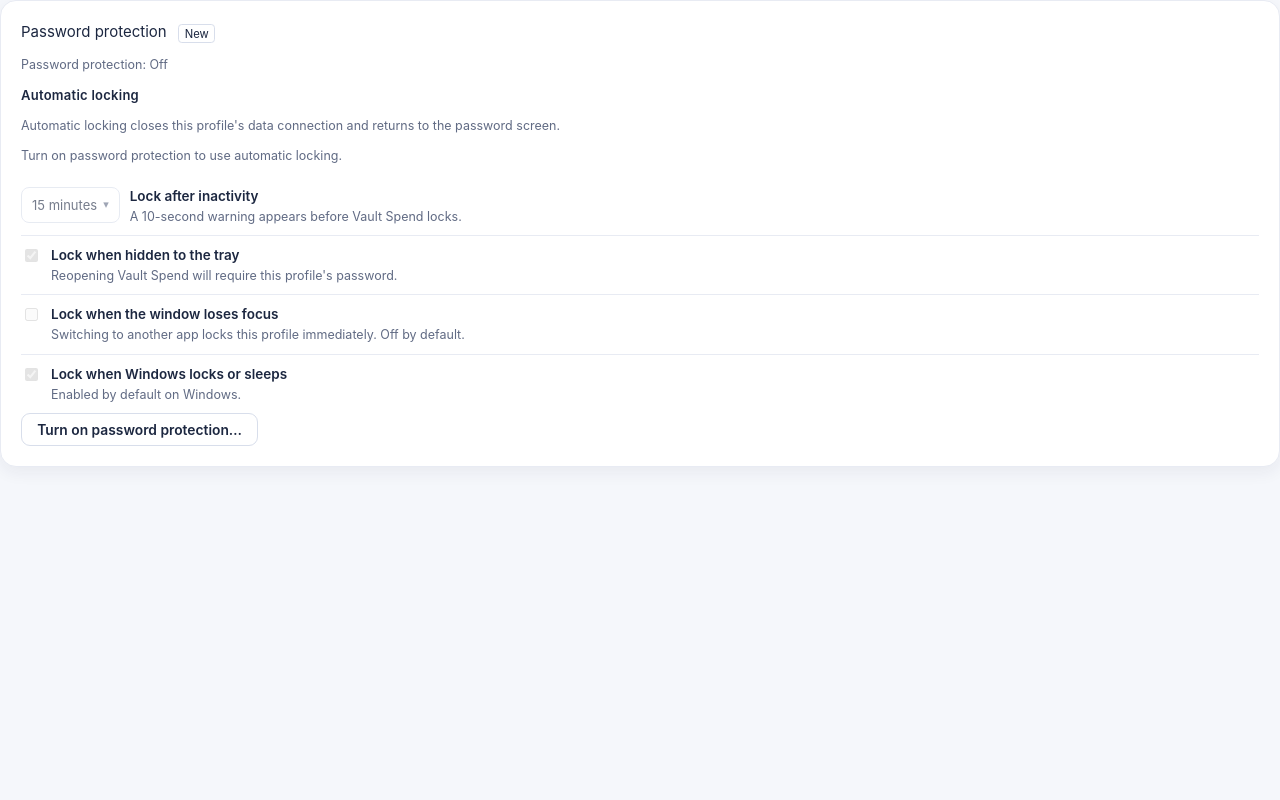
Test: ProfileProtectionSection › clicking the button opens the setup dialog for the active profile
The image size is (1280, 800).
What coordinates should you click on to do the following:
click the button "Turn on password protection…"
I would click on:
 (140, 430)
Its box is x1=21 y1=413 x2=258 y2=446.
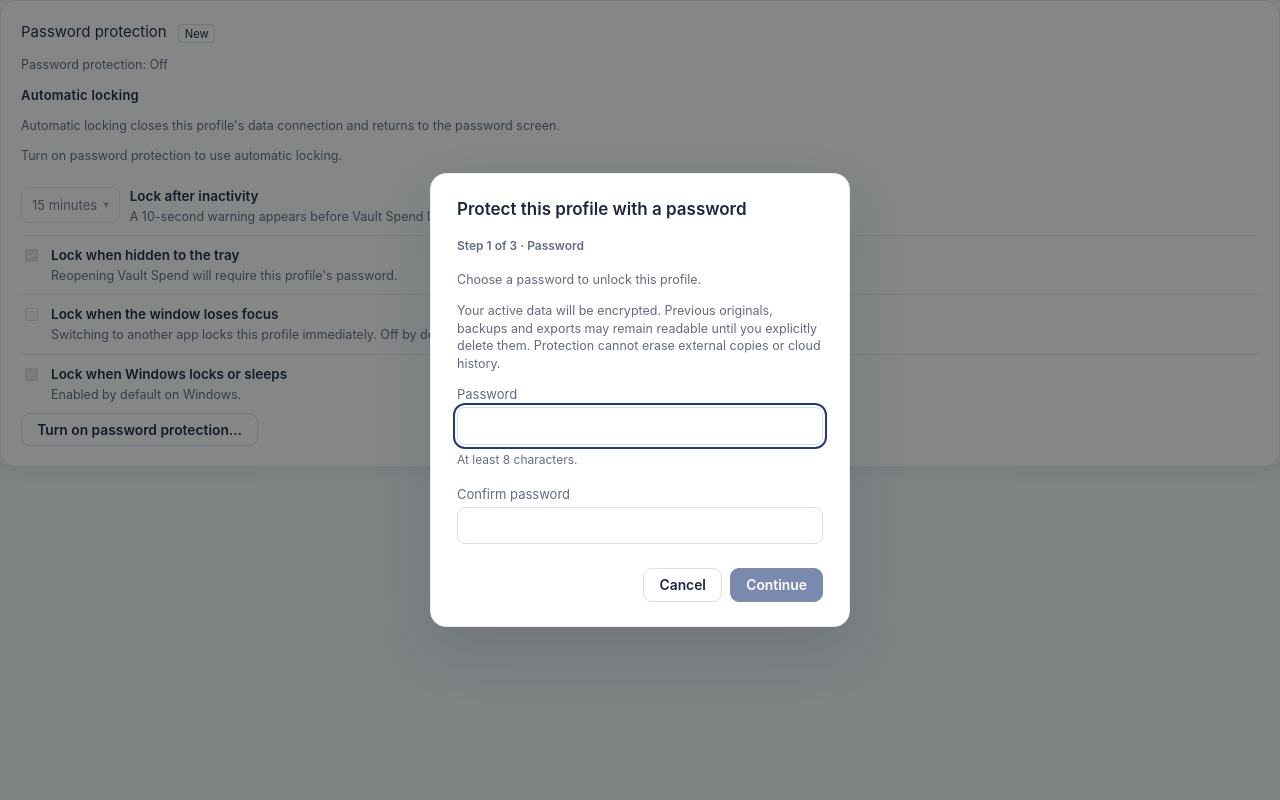
Check: the text "Protect this profile with a password" is shown, box x1=457 y1=200 x2=747 y2=220
